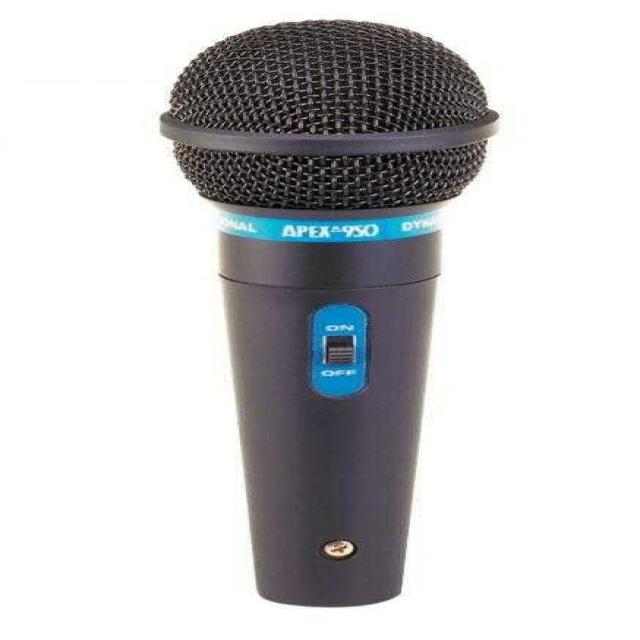microphone: (145, 16, 555, 613)
